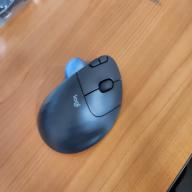mouse: (37, 54, 123, 155)
